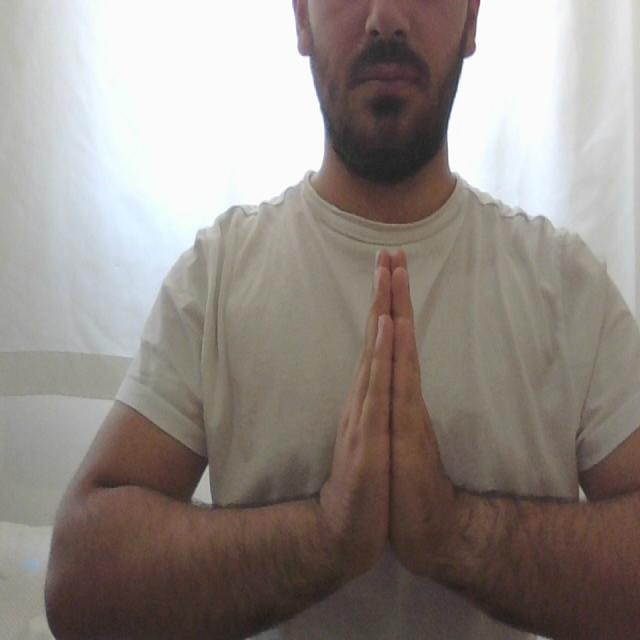Ozur-Dilemek: (316, 238, 461, 594)
